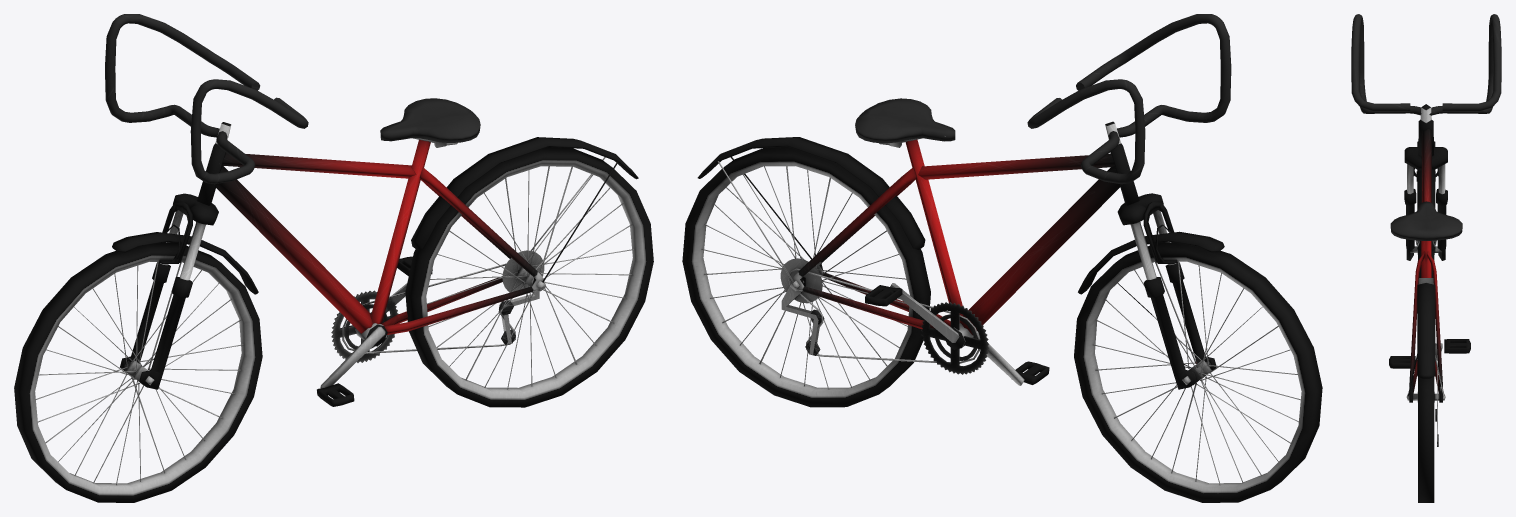
File: bike.fbx
3 views of the same model, side by side, from view 1: azimuth 30°, elevation 25°; view 2: azimuth 150°, elevation 25°; view 3: azimuth 270°, elevation 25° (orthographic). The views are drawn at different scales.
Visible parts, largest first — view 1: bycicle; view 2: bycicle; view 3: bycicle.
Boxes of the visible parts, x1,y1,x2,y2 form: bycicle: (14, 14, 653, 502); bycicle: (682, 14, 1322, 502); bycicle: (1351, 14, 1501, 502).
Bounding box in the file's own units: 1.97 × 1.32 × 0.5272.
1 material, 1 textured.
